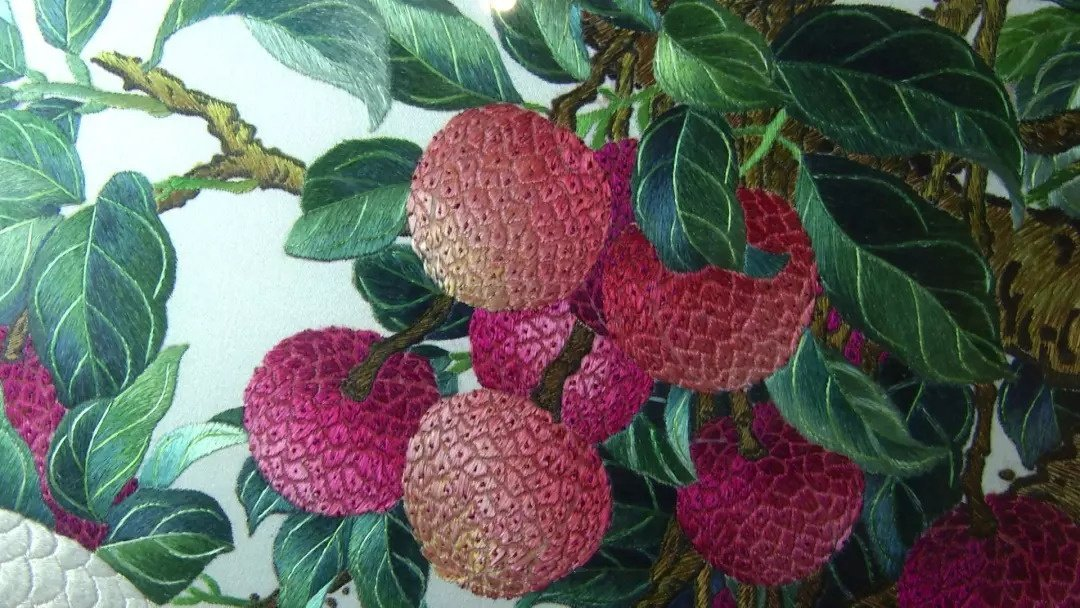lychee: (595, 174, 816, 393), (409, 104, 621, 308), (404, 390, 608, 599), (677, 386, 865, 582), (246, 328, 440, 516), (467, 297, 652, 444), (894, 493, 1078, 607), (1, 311, 68, 533), (41, 470, 145, 548), (817, 301, 895, 377), (592, 139, 647, 231)
